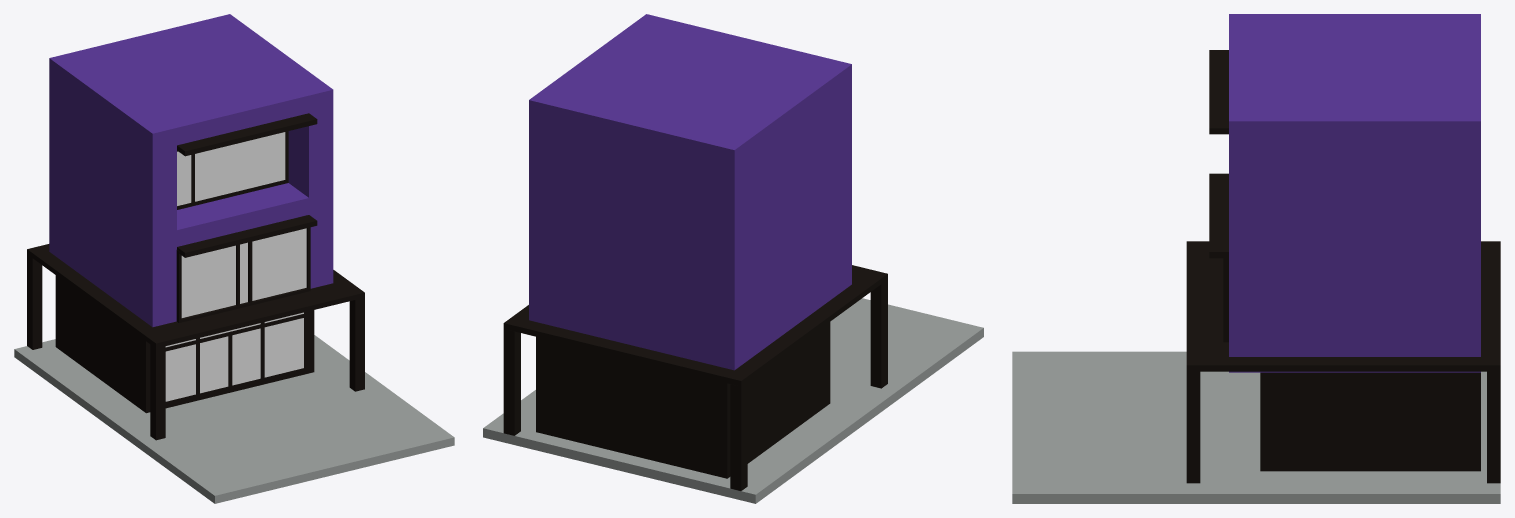
File: ruko.fbx
3 renders of one model, left to right at view 1: azimuth 30°, elevation 25°; view 2: azimuth 150°, elevation 25°; view 3: azimuth 270°, elevation 25°, orthographic. The views are drawn at different scales.
Parts seen in each view (by area): view 1: Cube.041; view 2: Cube.041; view 3: Cube.041.
Boxes of the visible parts, x1,y1,x2,y2 form: Cube.041: (14,14,454,503); Cube.041: (483,14,983,503); Cube.041: (1012,14,1500,503).
Bounding box in the file's own units: 30.95 × 36.83 × 44.85.
